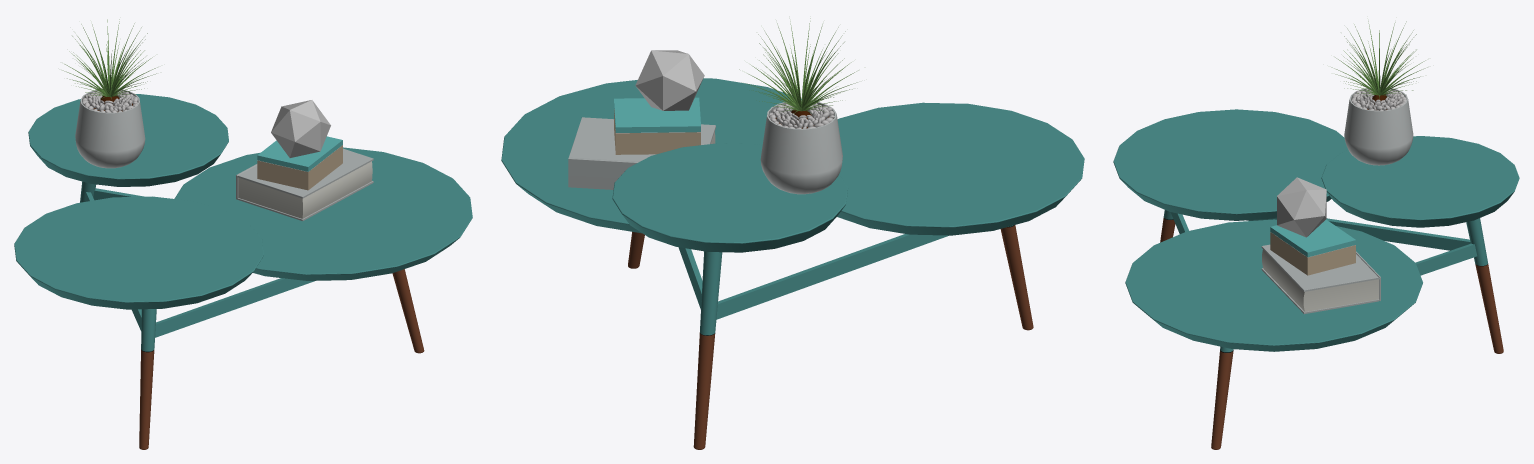
The model's file is Coffee_table.glb.
The picture shows the model from 3 angles, left to right: view 1: azimuth 30°, elevation 25°; view 2: azimuth 150°, elevation 25°; view 3: azimuth 270°, elevation 25°; orthographic projection. The views are drawn at different scales.
Bounding box in the file's own units: 9.66 × 6.57 × 7.83.
